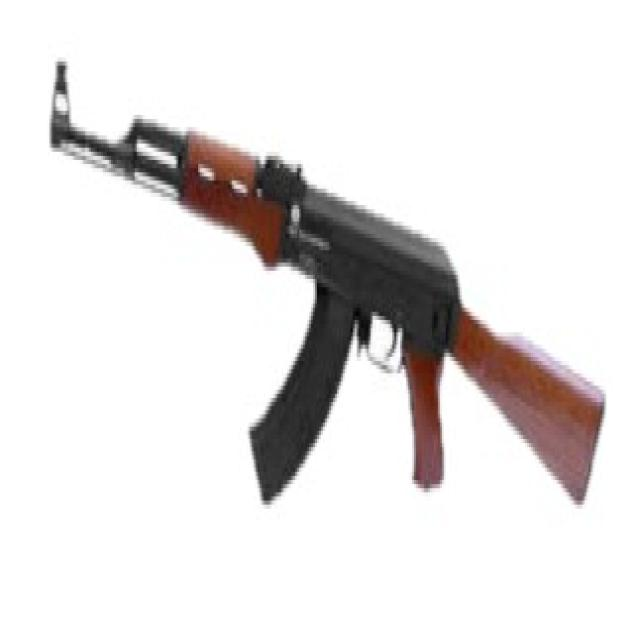rifle: (43, 56, 608, 519)
